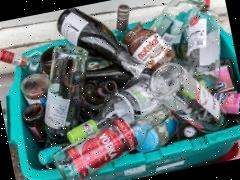glass: (46, 103, 184, 180), (53, 0, 154, 94), (23, 42, 106, 156), (144, 55, 230, 144), (173, 0, 233, 94)
